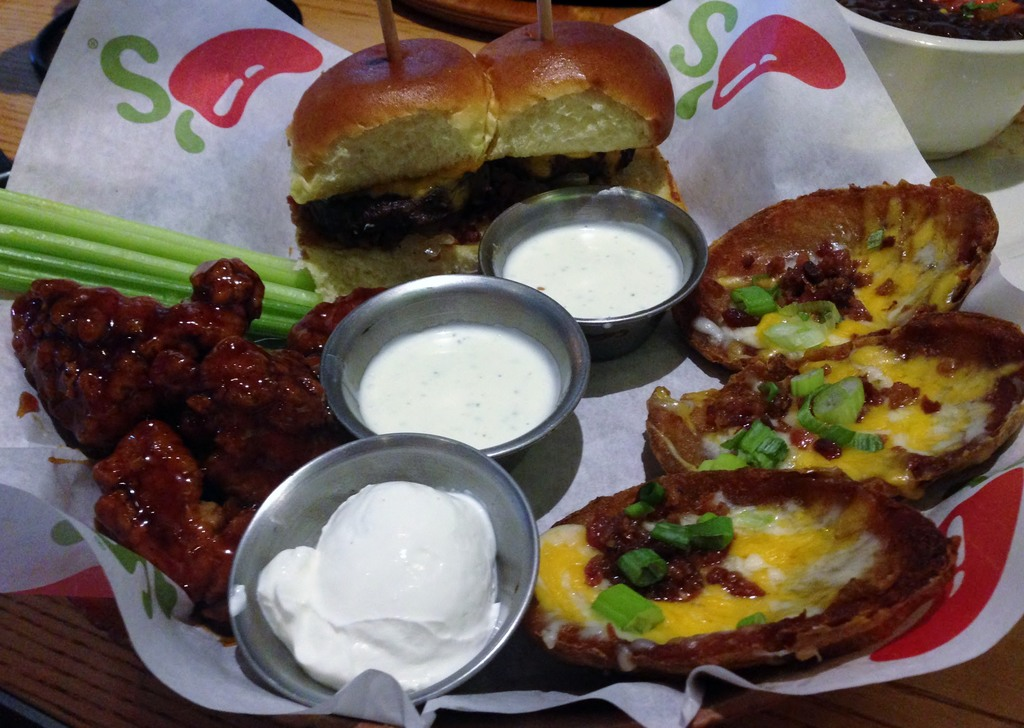Hamburger: (284, 16, 673, 298)
